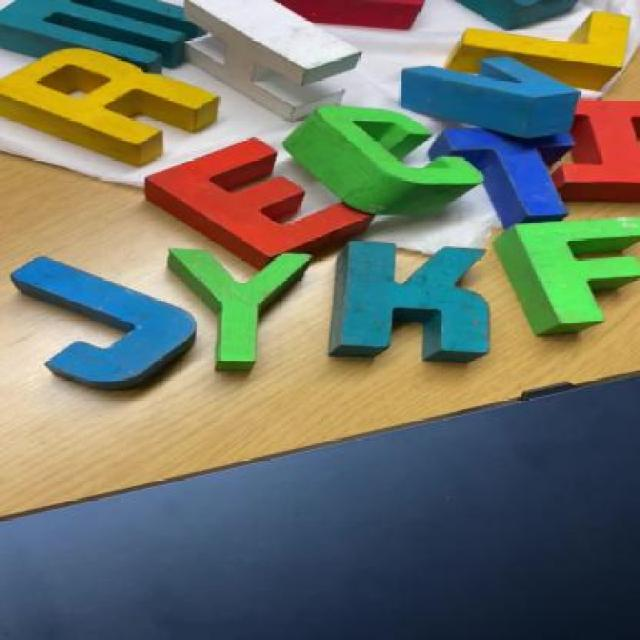C: (286, 110, 457, 212)
E: (159, 151, 372, 251)
F: (502, 217, 640, 332)
J: (9, 262, 196, 388)
K: (358, 242, 496, 366)
L: (452, 15, 628, 88)
R: (2, 50, 233, 164)
T: (446, 126, 571, 214)
V: (383, 61, 591, 128)
Y: (181, 246, 314, 374)
